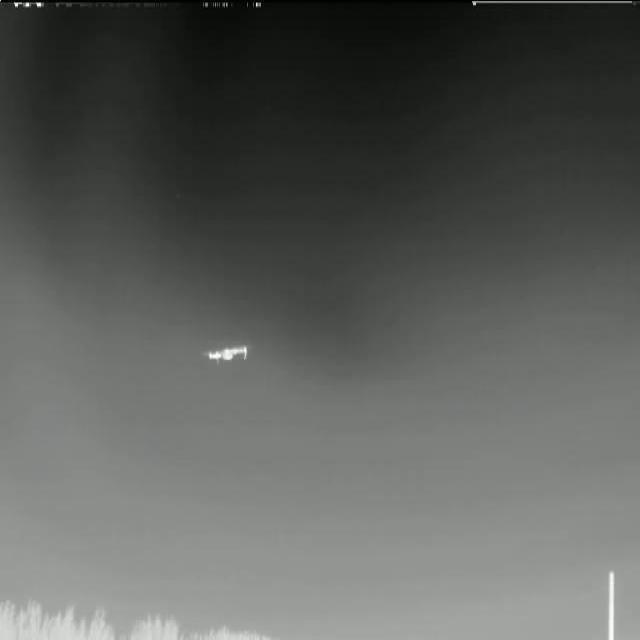DRONE: (196, 334, 254, 372)
